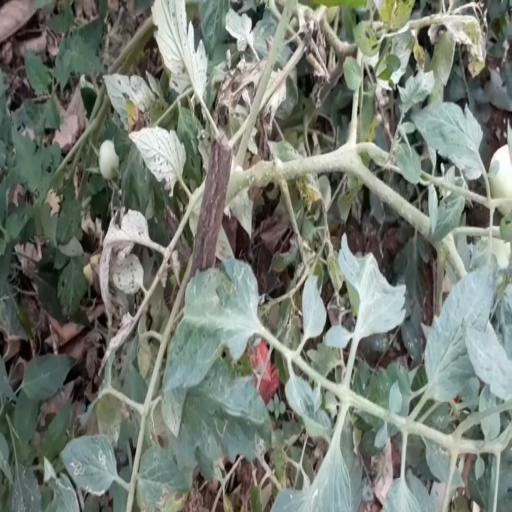Leaf_Miner: (166, 356, 274, 472), (60, 433, 118, 497)
